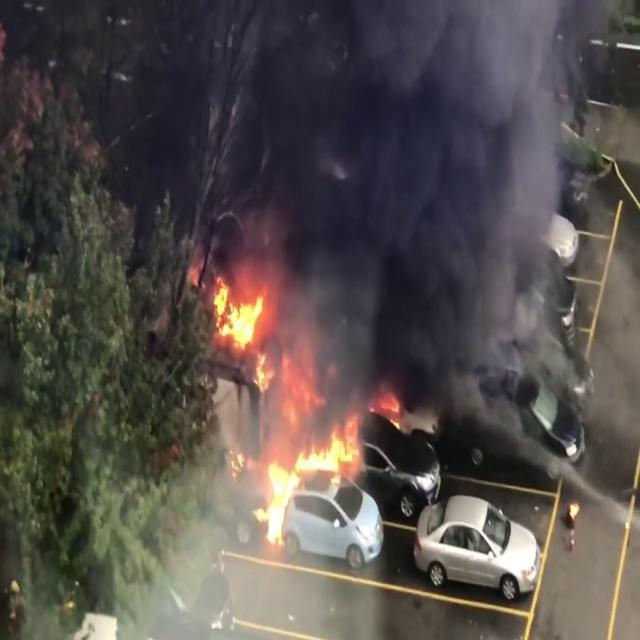Fire: (252, 349, 364, 551), (201, 270, 273, 356)
Smoke: (74, 0, 610, 424), (258, 0, 604, 418)
